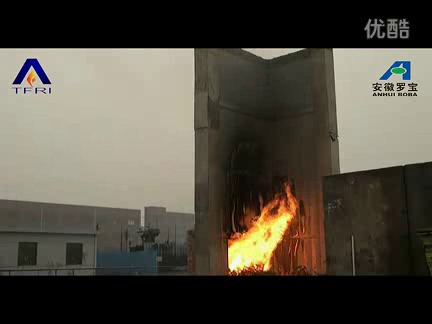fire: (225, 178, 301, 275)
